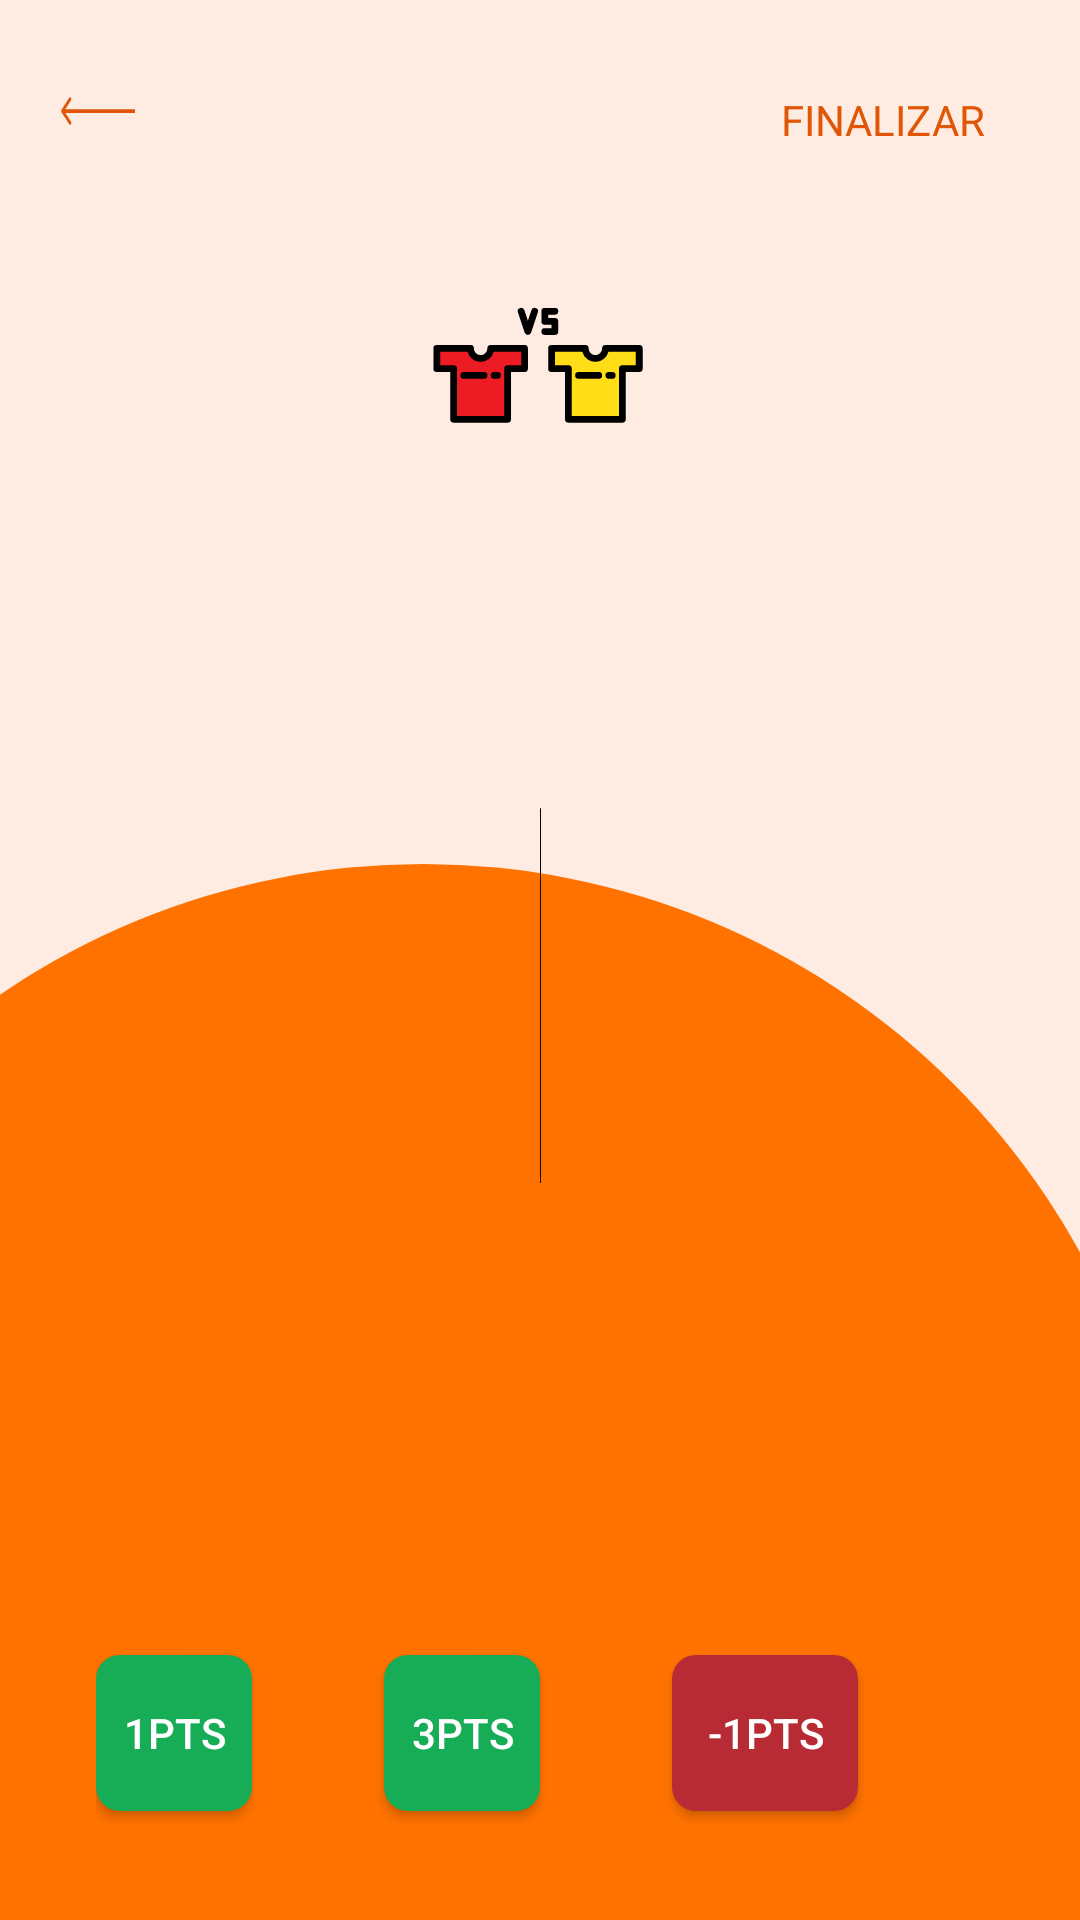

Locate icon controls on the screen. Image size 1080×1920, boxes as {"left": x1, "top": y1, "right": x2, "bottom": y2}.
arrow: {"left": 61, "top": 97, "right": 135, "bottom": 125}
